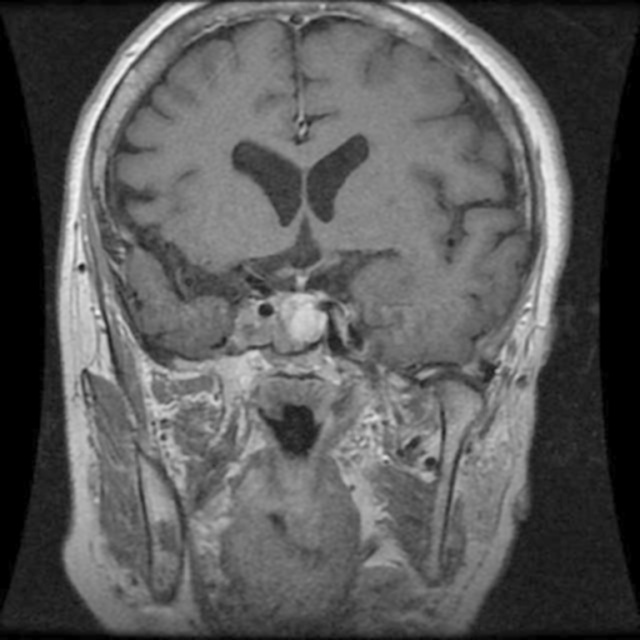no tumor: (275, 292, 329, 346)
